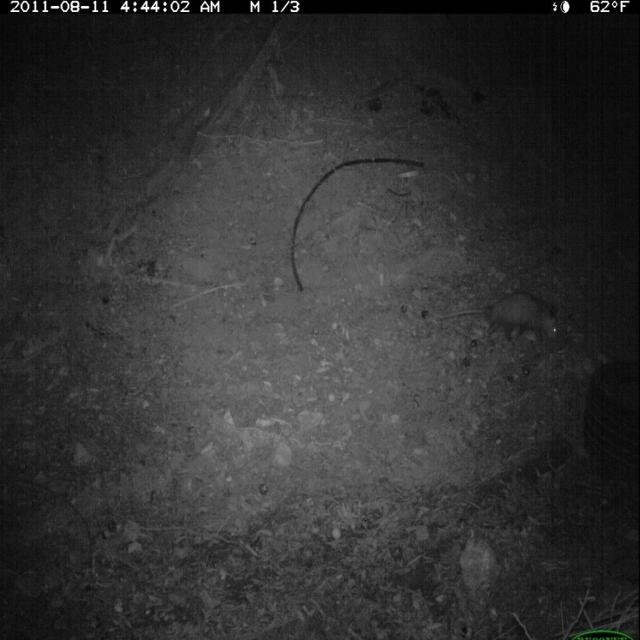opossum: (431, 285, 568, 359)
